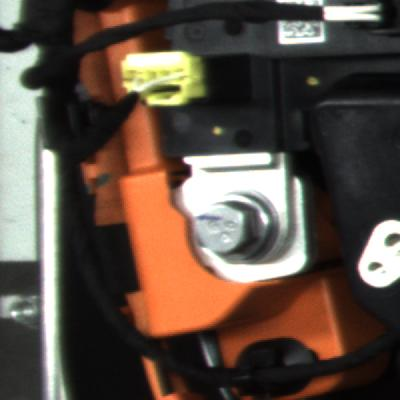nut_b: (180, 178, 288, 273)
